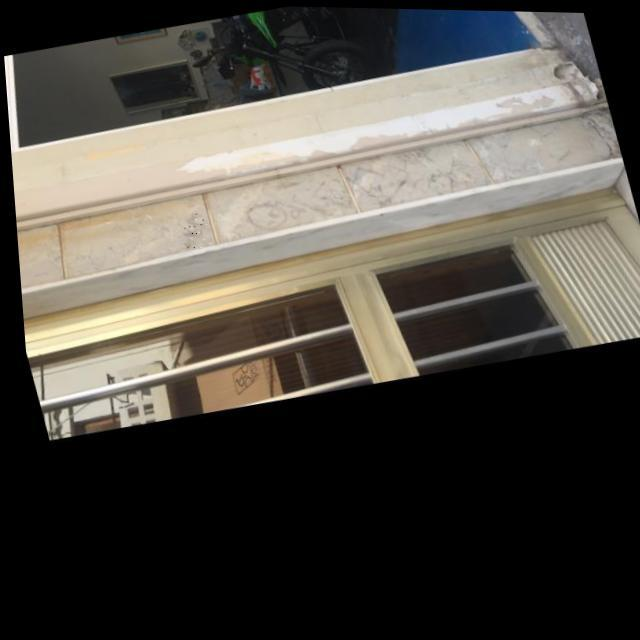-: (174, 210, 210, 250)
